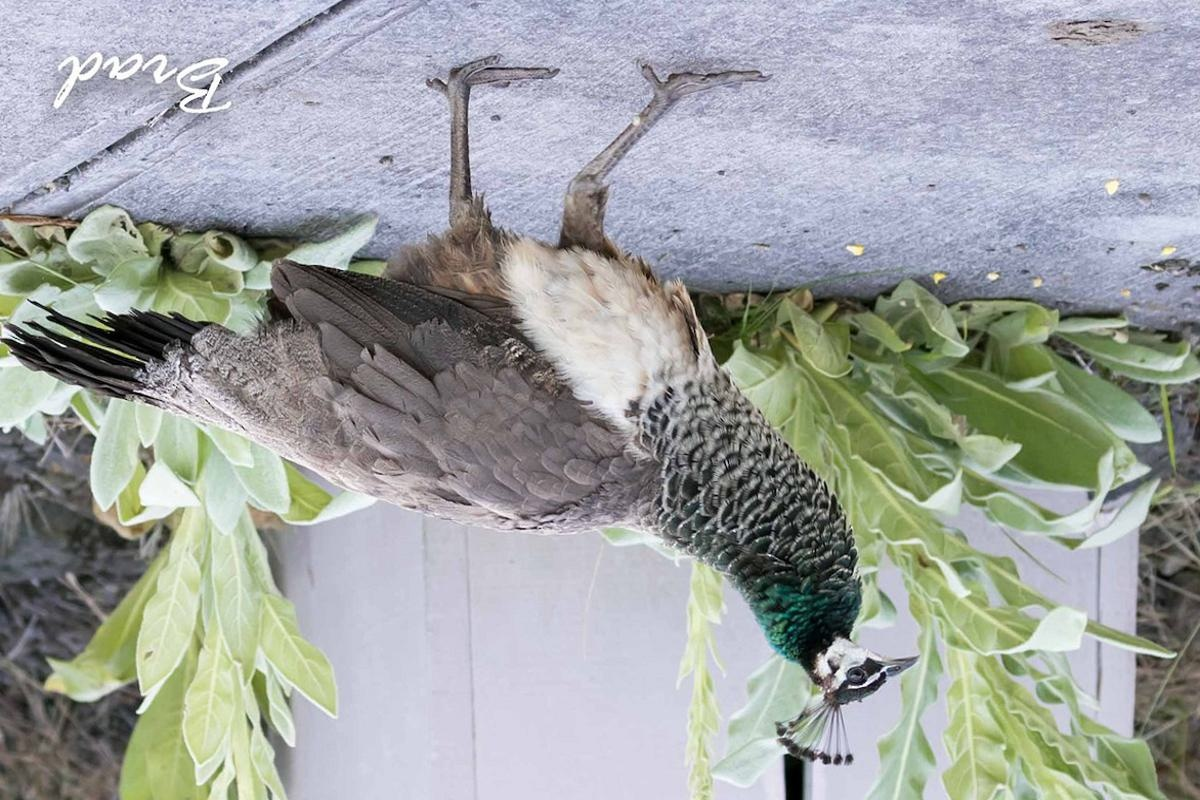peacock: (121, 50, 918, 723)
